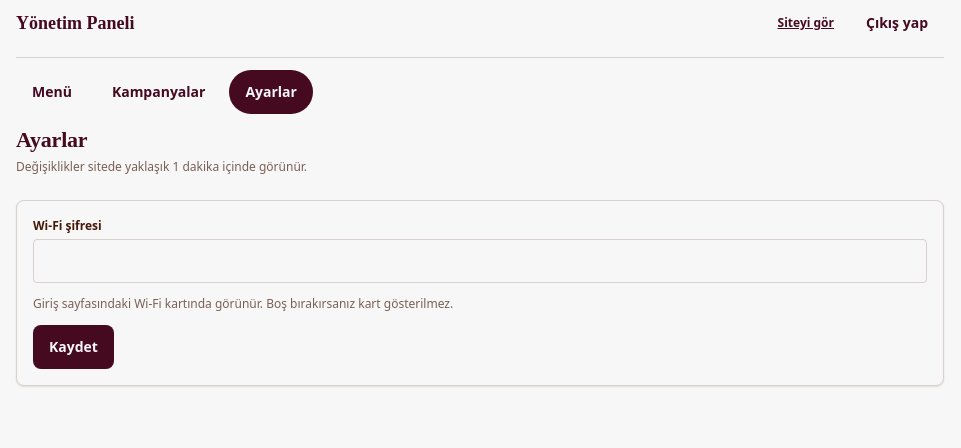
Test: admin panel › saves the Wi-Fi password from the Ayarlar page
Type "ornek-sifre-123" into the field labelled "Wi-Fi şifresi" at (480, 261), box [33, 239, 927, 283]
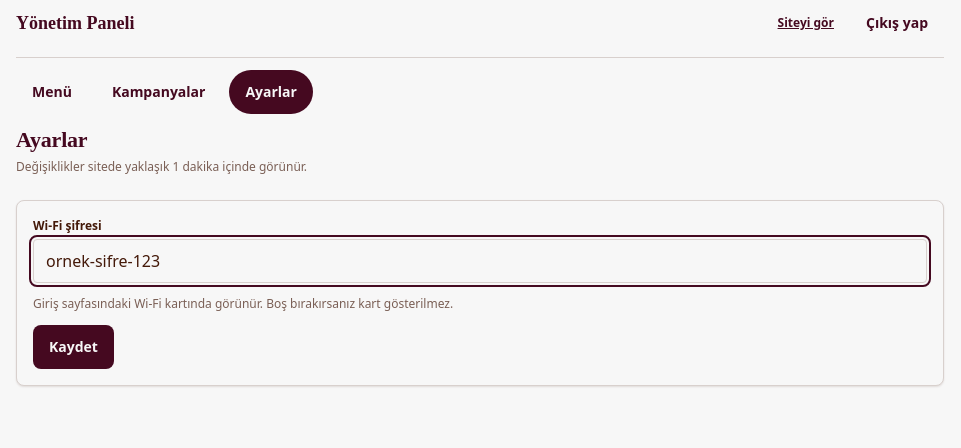
Click the button "Kaydet" at (73, 347), box [33, 325, 114, 369]
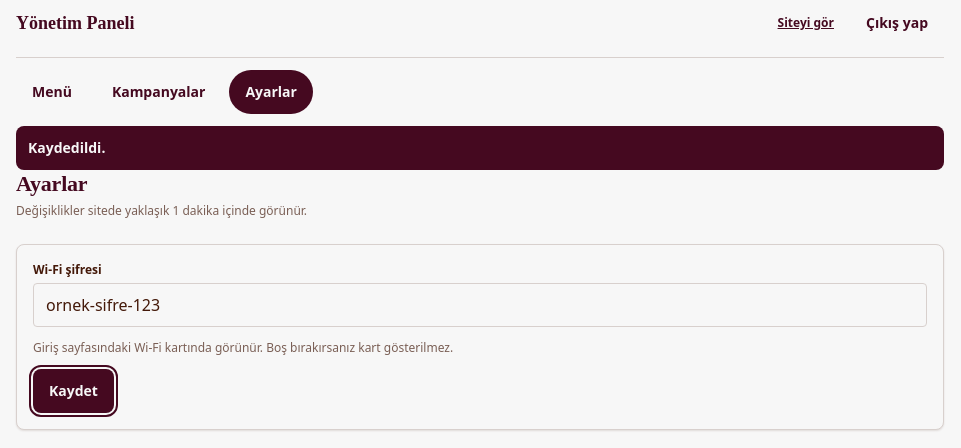
Check: the message reads "Kaydedildi.", box [28, 138, 105, 157]
